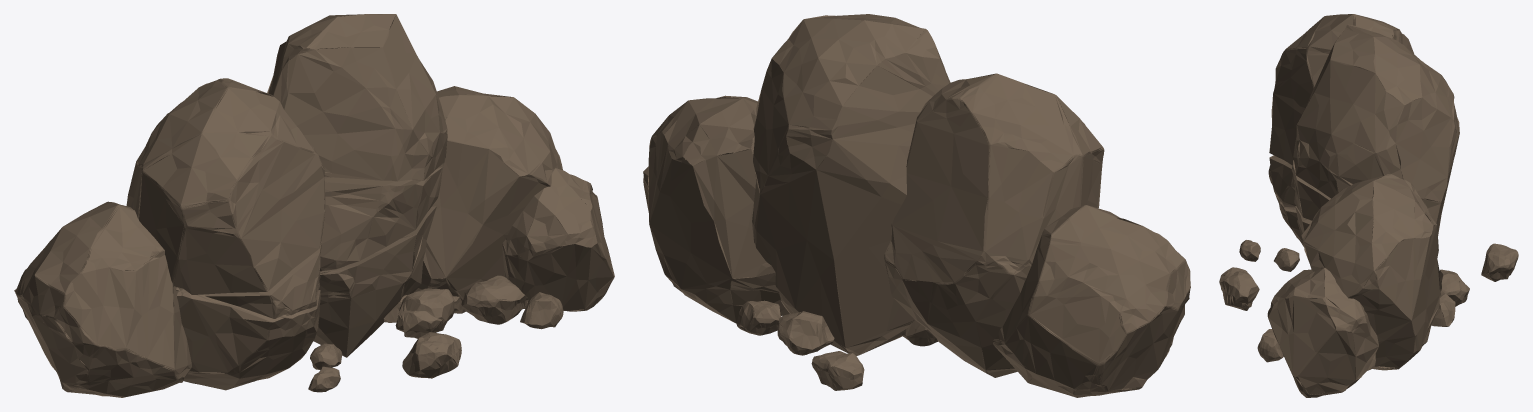
The model's file is SM_Cliff_Ridge_02.fbx.
3 renders of one model, left to right at view 1: azimuth 30°, elevation 25°; view 2: azimuth 150°, elevation 25°; view 3: azimuth 270°, elevation 25°, orthographic. The views are drawn at different scales.
Parts seen in each view (by area): view 1: SM_Cliff_Ridge_02; view 2: SM_Cliff_Ridge_02; view 3: SM_Cliff_Ridge_02.
Part boxes in pixels (x1,y1,x2,y2): SM_Cliff_Ridge_02: [14, 14, 614, 397]; SM_Cliff_Ridge_02: [643, 14, 1190, 397]; SM_Cliff_Ridge_02: [1219, 14, 1518, 397].
Bounding box in the file's own units: 542 × 297 × 317.
